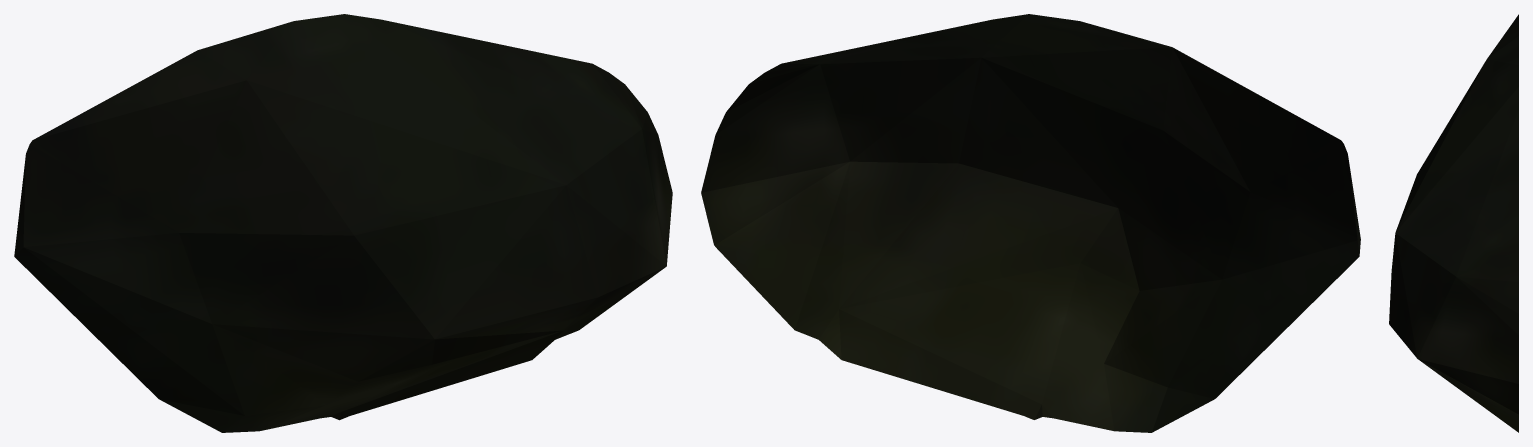
3 renders of one model, left to right at view 1: azimuth 30°, elevation 25°; view 2: azimuth 150°, elevation 25°; view 3: azimuth 270°, elevation 25°, orthographic. The views are drawn at different scales.
Bounding box in the file's own units: 0.2818 × 0.1678 × 0.0679.
1 material, 1 textured.
